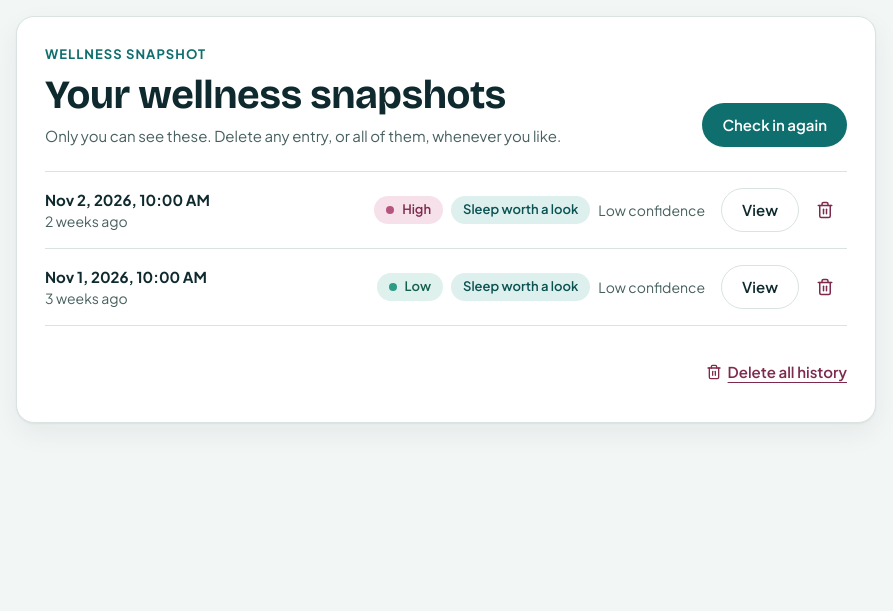
Test: history › delete one asks first; Keep it cancels; Delete removes it without a full reload
Click the button named "delete:". click: (825, 210)
box: [803,188,847,232]
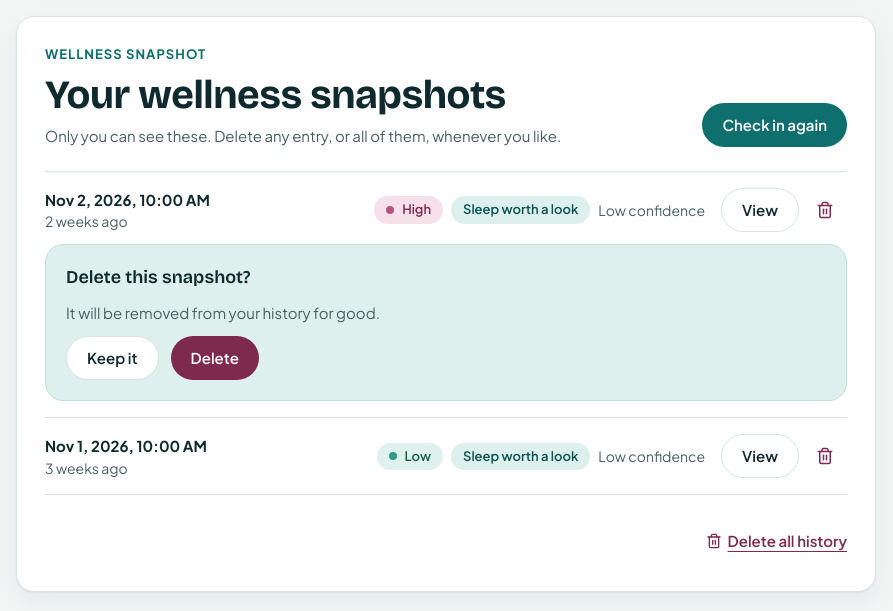
expect the heading "Delete this snapshot?" is shown: met, box [66,266,250,288]
Click the button "Keep it". click: (112, 358)
box: [66,336,159,380]
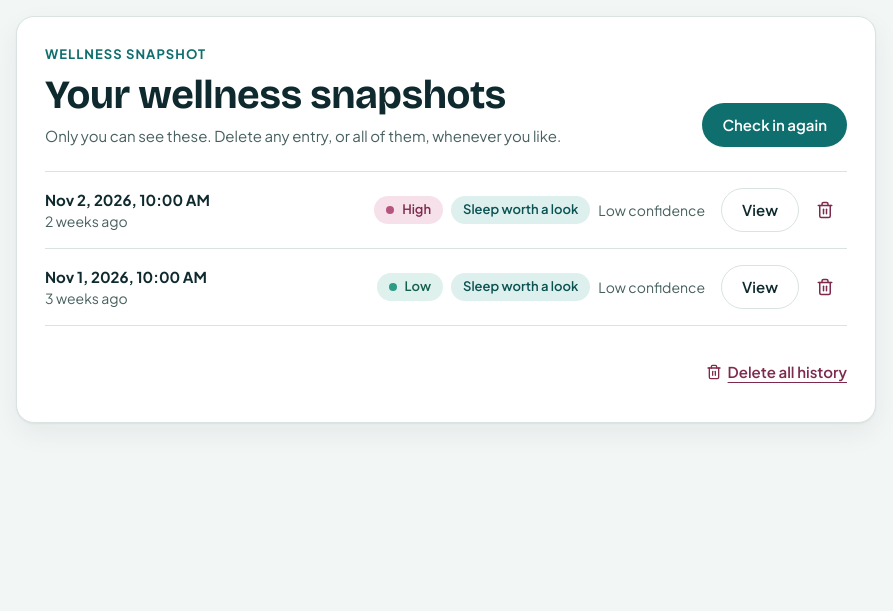
Click the button named "delete:". click: (825, 210)
box: [803,188,847,232]
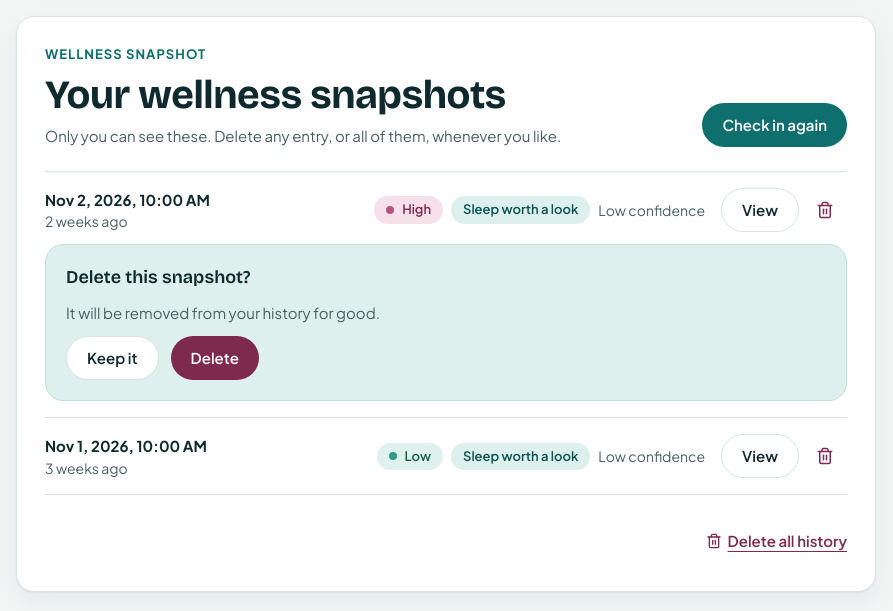
Click the button "Delete". click: (215, 358)
box: [171,336,259,380]
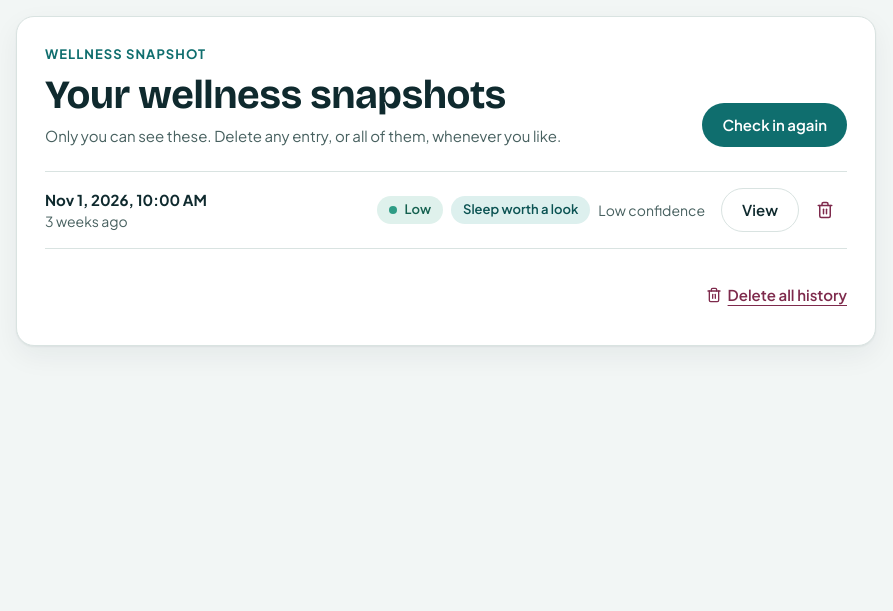
expect the text "Low" is shown: met, box [376,196,443,224]
expect the text "High" is gone: met
expect the heading "Delete this snapshot?" is gone: met
